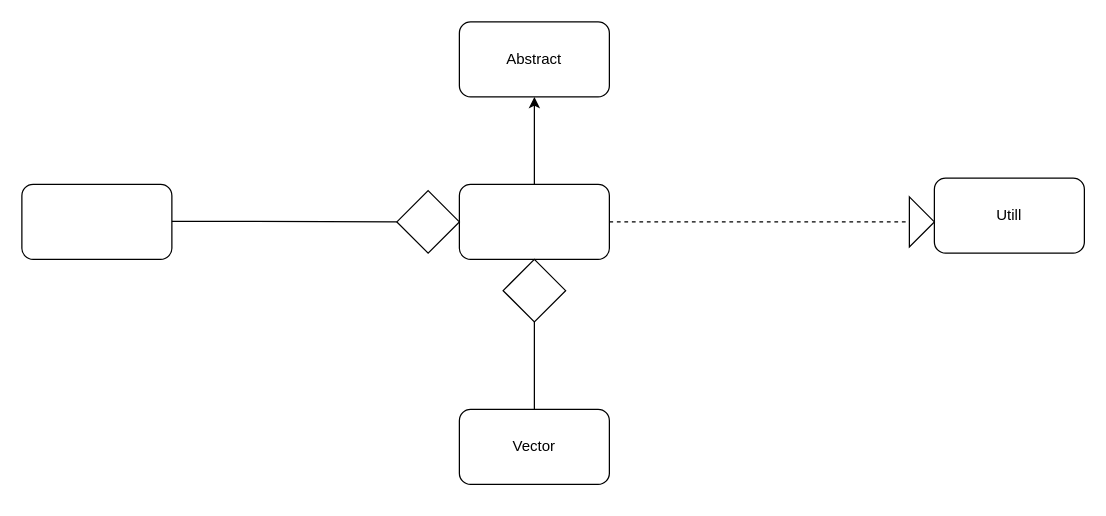
The diagram is 1106 pixels wide and 516 high, and some of its shapes have lost their labels. Here are the shapes that lost their labels. From the top down, the centre of each, then its label:
pixel 96 221: Factory
pixel 533 221: Class
